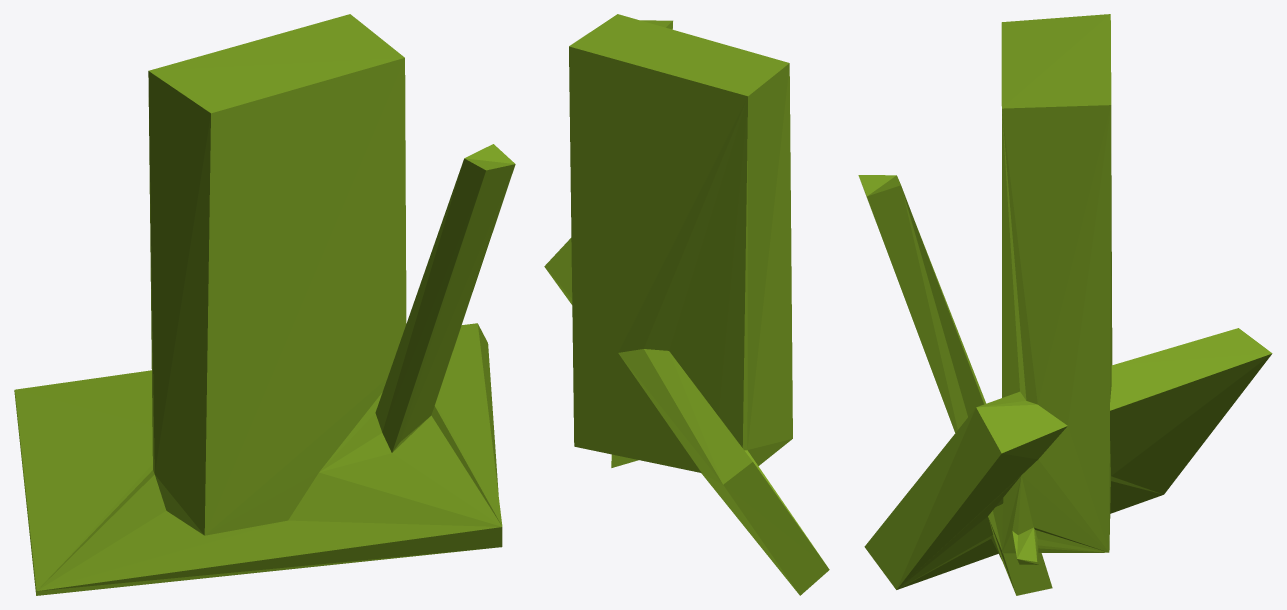
3 renders of one model, left to right at view 1: azimuth 30°, elevation 25°; view 2: azimuth 150°, elevation 25°; view 3: azimuth 270°, elevation 25°, orthographic. The views are drawn at different scales.
Parts seen in each view (by area): view 1: 658_Cube.2642; view 2: 658_Cube.2642; view 3: 658_Cube.2642.
Part boxes in pixels (x1=…): 658_Cube.2642: x1=14, y1=14, x2=515, y2=595; 658_Cube.2642: x1=544, y1=14, x2=829, y2=595; 658_Cube.2642: x1=858, y1=14, x2=1272, y2=595.
Bounding box in the file's own units: 11.08 × 14.53 × 10.3.
